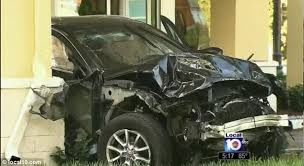Broken-glass: (79, 28, 126, 45)
Smashed: (118, 54, 279, 126), (37, 67, 119, 156)
